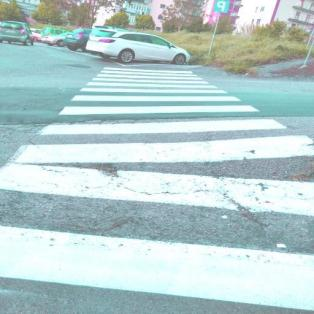Paso de Cebra: (37, 104, 292, 138), (82, 76, 225, 90)
